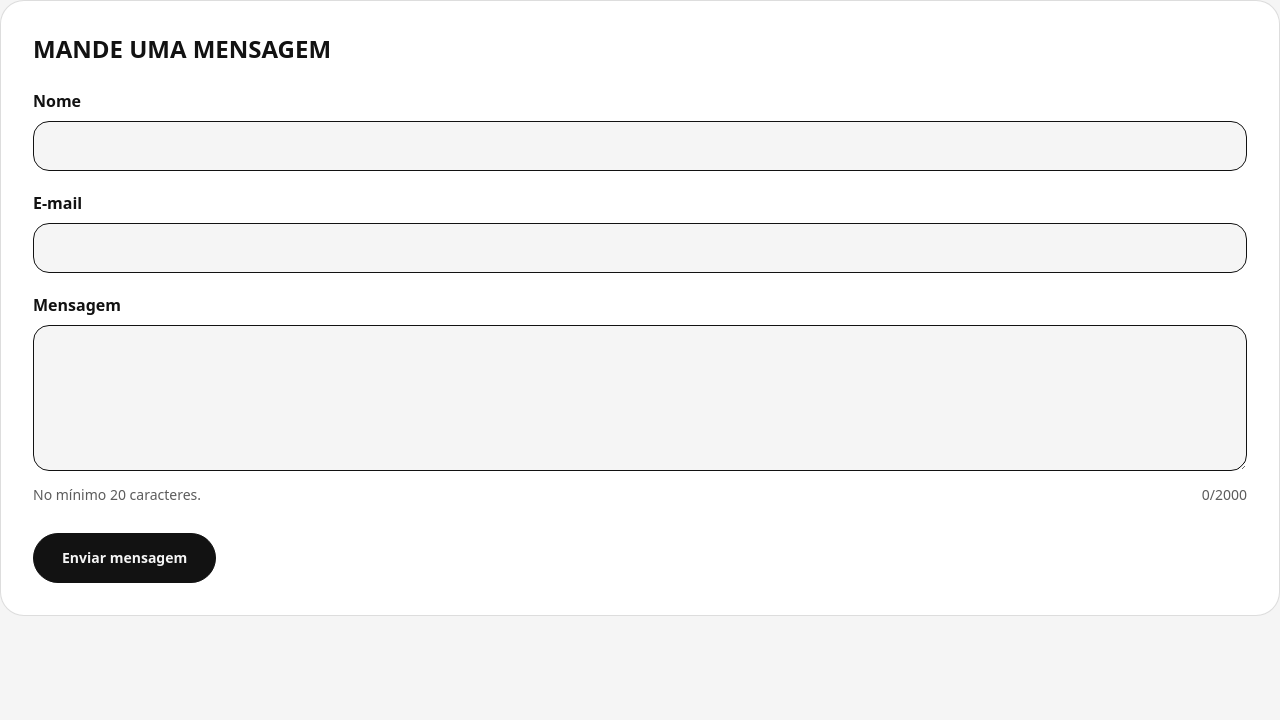
Test: ContactForm › mantém o texto e mostra o erro quando o envio falha
Type "Ana Souza" into the field labelled "Nome". click: (640, 146)
box: [33, 121, 1247, 171]
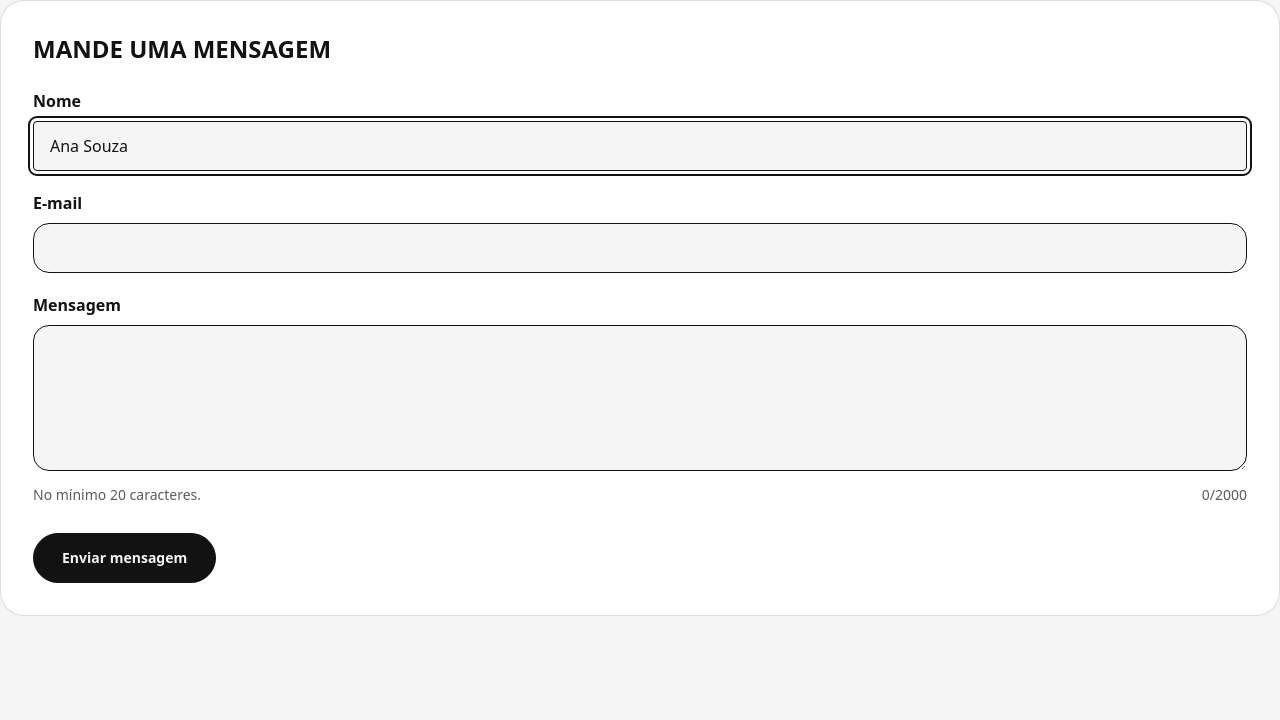
Type "ana@exemplo.com" into the field labelled "E-mail". click: (640, 248)
box: [33, 223, 1247, 273]
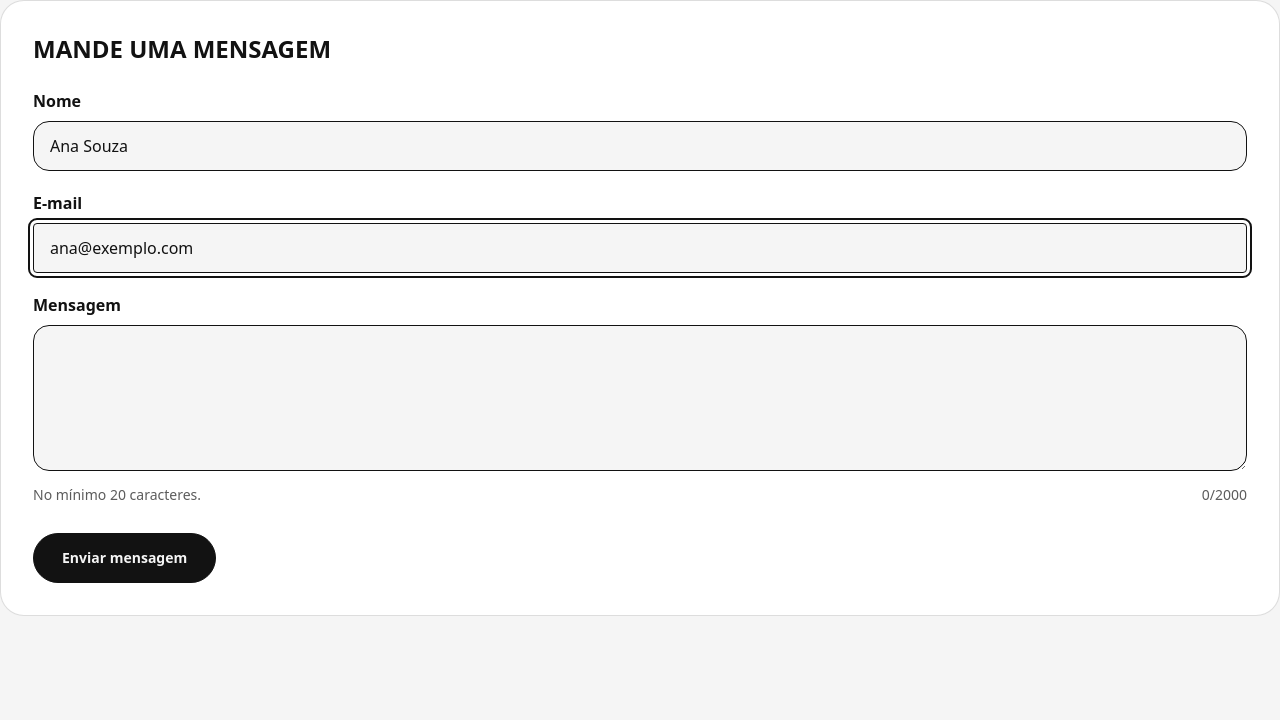
Type "Quero conversar sobre uma vaga de estágio." into the text box labelled "Mensagem". click: (640, 398)
box: [33, 325, 1247, 471]
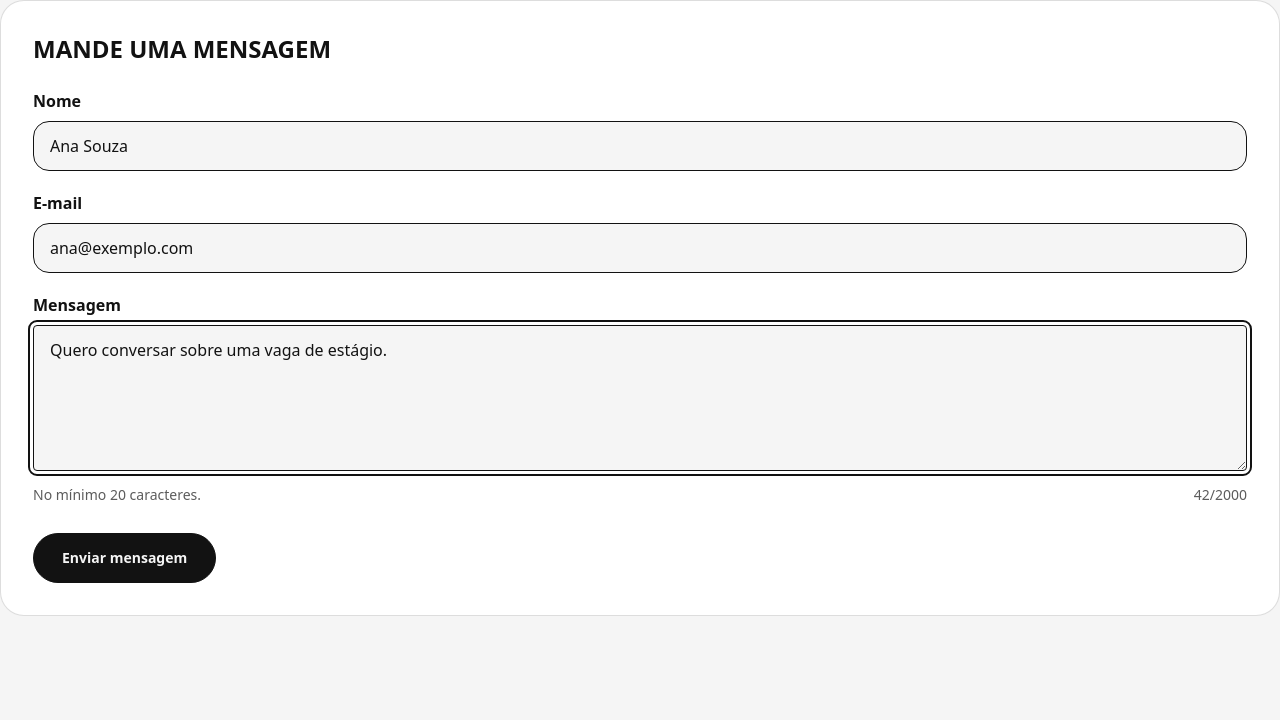
Click the button "Enviar mensagem". click: (125, 558)
box: [33, 533, 216, 583]
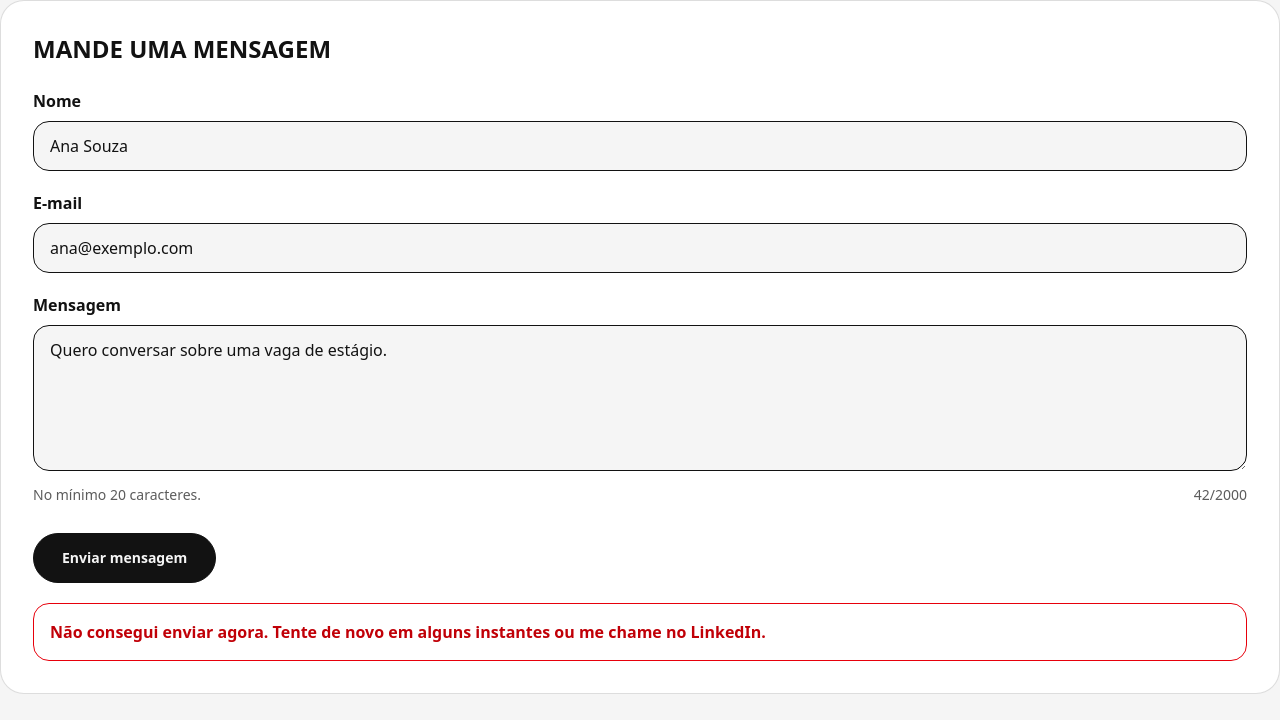
Check: the message shows "Não consegui enviar agora. Tente de novo em alguns instantes ou me chame no LinkedIn.", box [50, 621, 766, 643]
